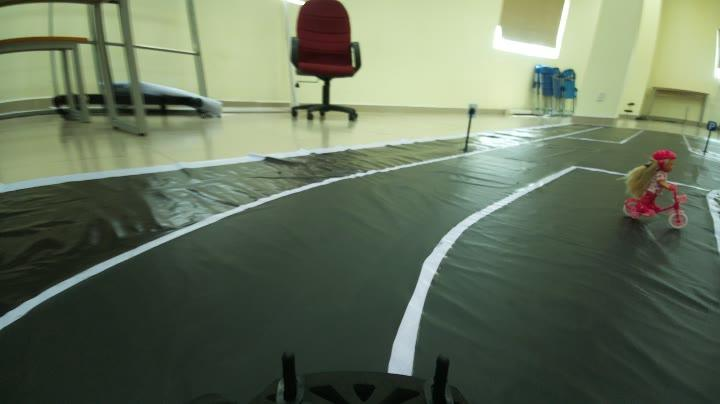pedestrian: (631, 146, 692, 234)
